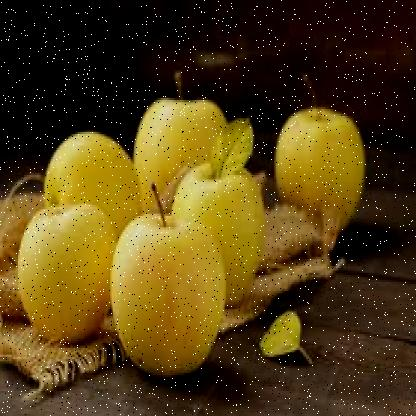apple: (110, 218, 223, 372), (173, 157, 267, 298), (15, 202, 110, 334), (273, 100, 368, 230), (134, 86, 232, 210), (42, 132, 140, 241)
